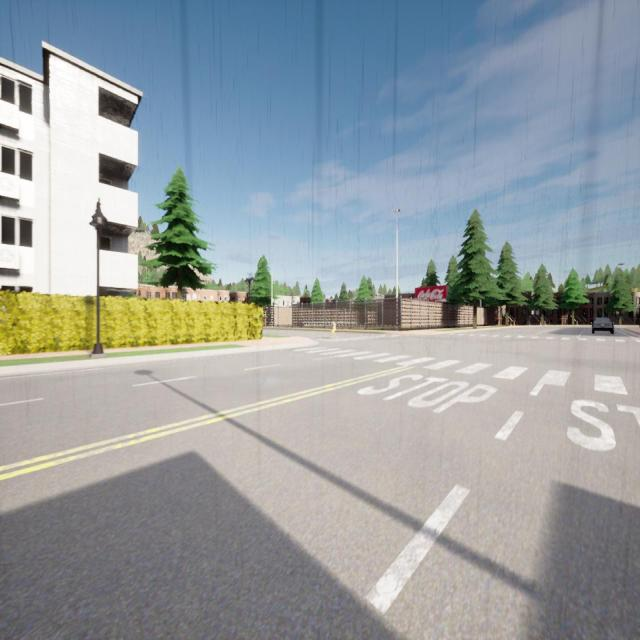Pedestrian: (332, 320, 335, 339)
Vehicle: (594, 317, 613, 333)
